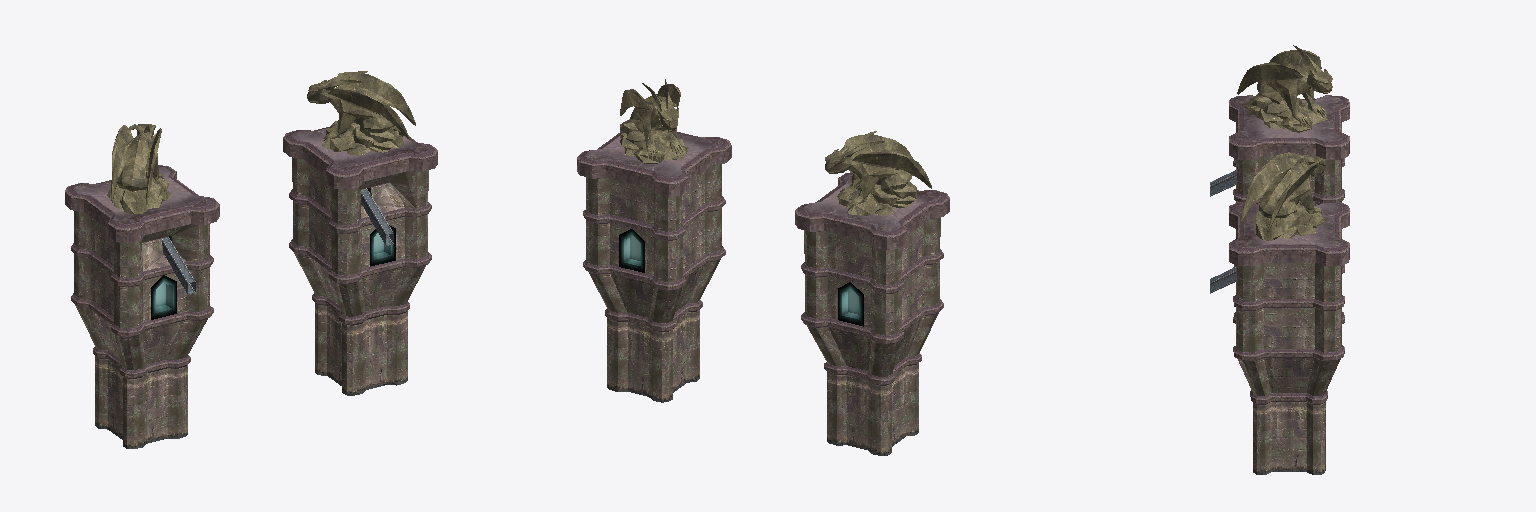
3 views of the same model, side by side, from view 1: azimuth 30°, elevation 25°; view 2: azimuth 150°, elevation 25°; view 3: azimuth 270°, elevation 25° (orthographic).
Visible parts, largest first — view 1: Node 0, Node 1; view 2: Node 0, Node 1; view 3: Node 0.
Boxes of the visible parts, x1=… form: Node 0: x1=65, y1=71, x2=437, y2=448; Node 1: x1=151, y1=225, x2=395, y2=319; Node 0: x1=577, y1=79, x2=949, y2=455; Node 1: x1=619, y1=229, x2=863, y2=326; Node 0: x1=1210, y1=45, x2=1349, y2=474.
Size of the model in its own units: 49.81 by 44.26 by 18.7.
6 materials, 6 textured.